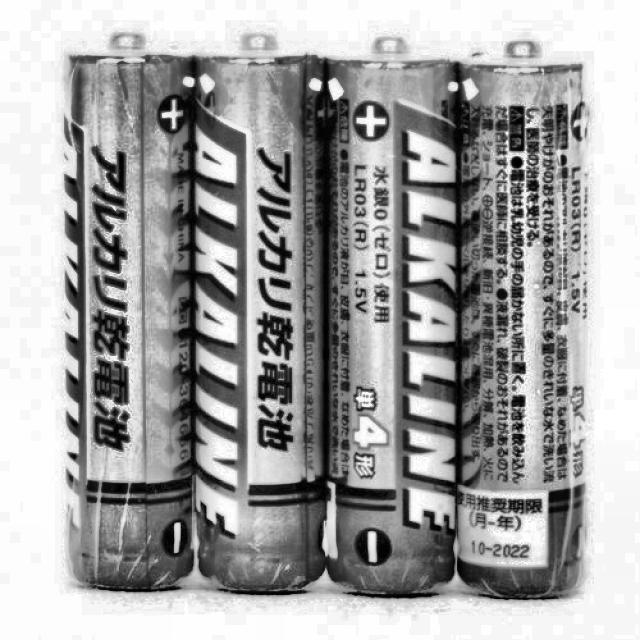drycell: (188, 29, 329, 603), (59, 31, 196, 595)
